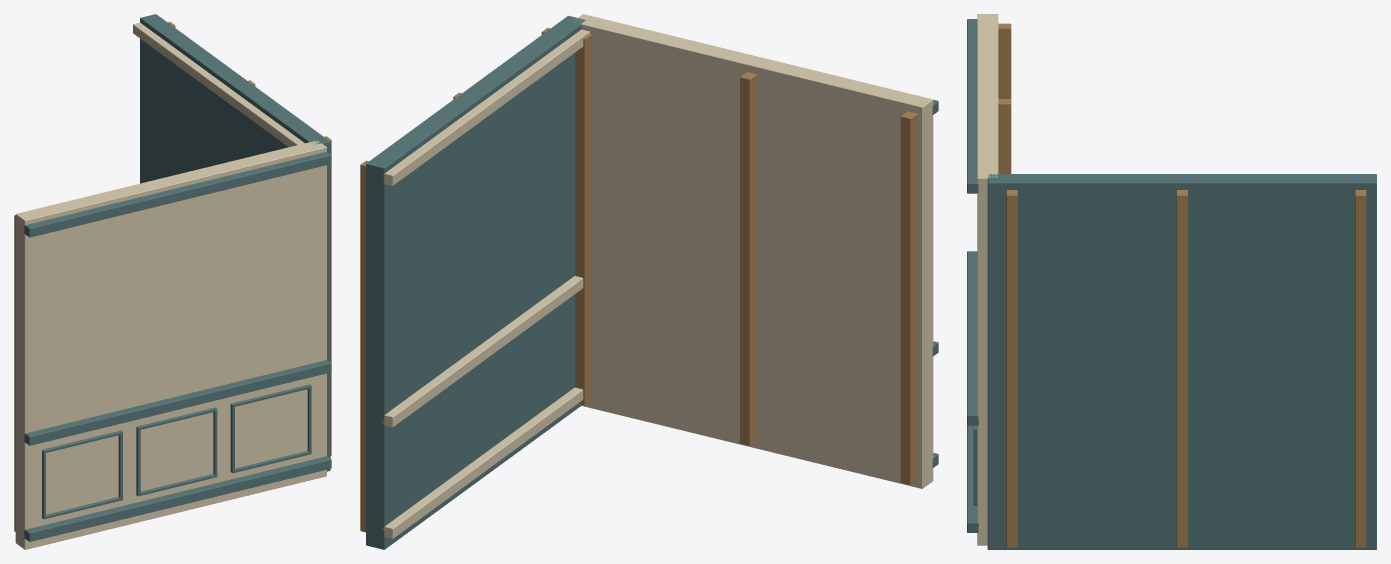
File: S024_folding_room_corner_rebuilt.glb
The picture shows the model from 3 angles, left to right: view 1: azimuth 30°, elevation 25°; view 2: azimuth 150°, elevation 25°; view 3: azimuth 270°, elevation 25°; orthographic projection. The views are drawn at different scales.
Visible parts, largest first — view 1: Warm_matte_scenic_paint, Muted_teal_scenic_paint, Scenic_framing_warm_bare_timber; view 2: Warm_matte_scenic_paint, Muted_teal_scenic_paint, Scenic_framing_warm_bare_timber; view 3: Muted_teal_scenic_paint, Scenic_framing_warm_bare_timber, Warm_matte_scenic_paint.
Part boxes in pixels (box(x1,y1,x2,y2)): Warm_matte_scenic_paint: box(15, 22, 326, 549); Muted_teal_scenic_paint: box(24, 14, 331, 541); Scenic_framing_warm_bare_timber: box(14, 22, 331, 531); Warm_matte_scenic_paint: box(382, 14, 933, 538); Muted_teal_scenic_paint: box(366, 15, 938, 549); Scenic_framing_warm_bare_timber: box(360, 27, 917, 532); Muted_teal_scenic_paint: box(967, 19, 1376, 549); Scenic_framing_warm_bare_timber: box(998, 23, 1366, 547); Warm_matte_scenic_paint: box(977, 14, 998, 545).
Size of the model in its own units: 2.54 by 2.5 by 2.53.
